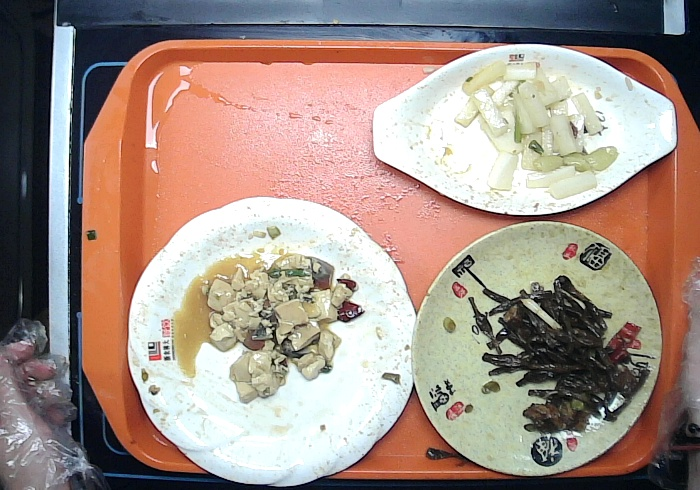NLDX-Bai_Zhe_Yuan_Pan: (123, 183, 421, 490)
NLDX-Fu_Zi_Yuan_Pan: (415, 221, 671, 486)
NLDX-Yu_Pan: (356, 43, 684, 227)
